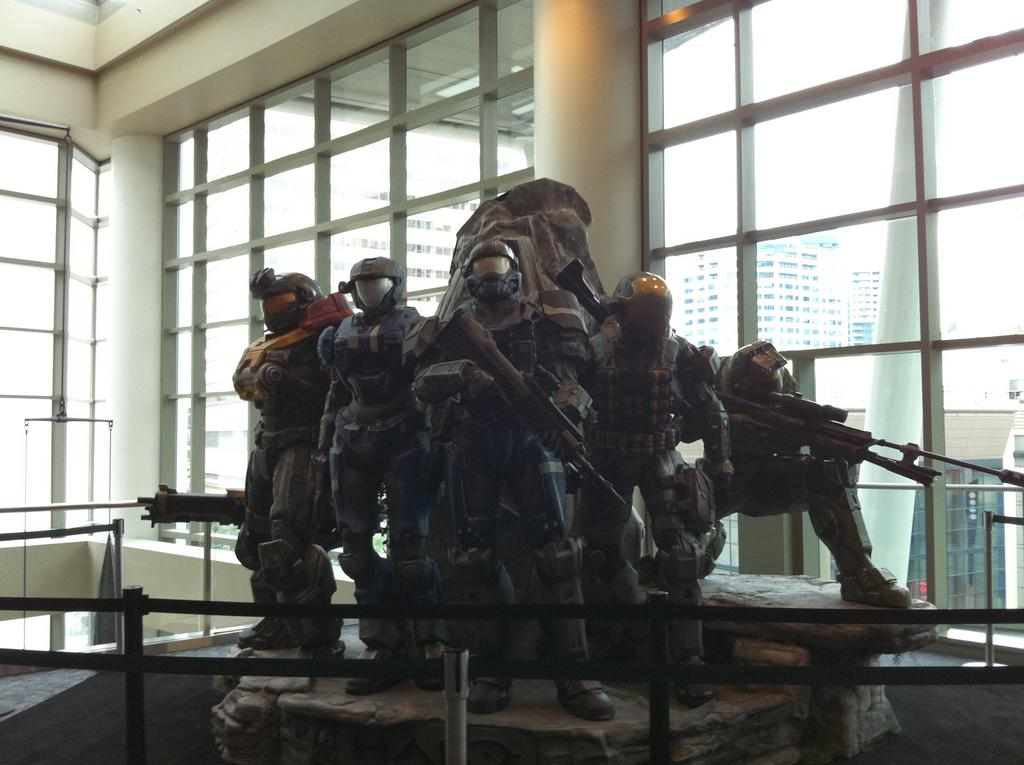Rifle: (432, 309, 627, 511), (712, 392, 1023, 489), (553, 257, 697, 413), (138, 482, 385, 549)
